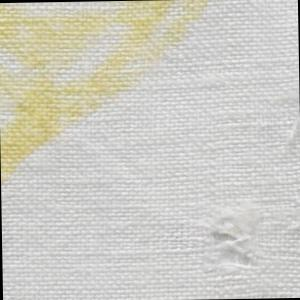Damage: (204, 207, 259, 278)
Stain: (1, 1, 215, 188)
